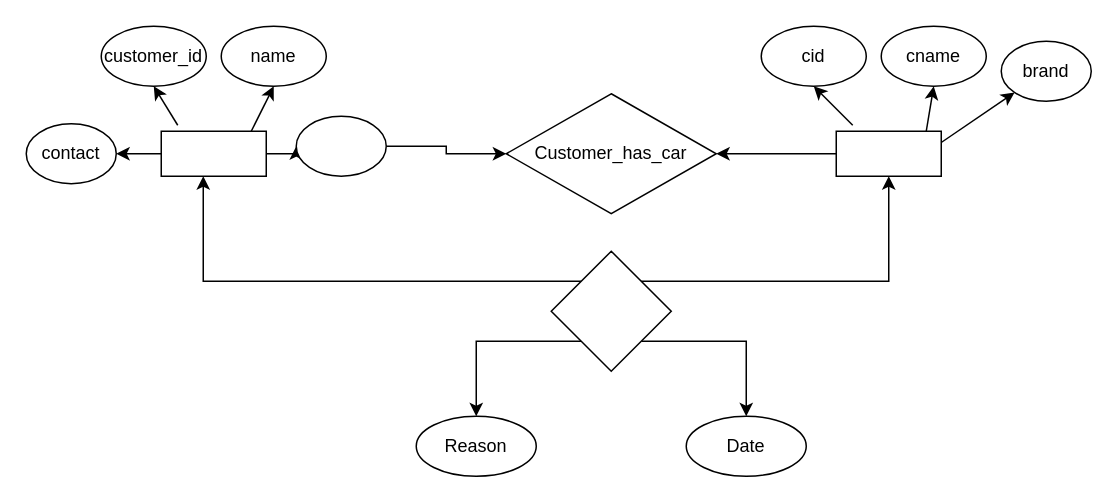
The diagram is 1118 pixels wide and 503 high, and some of its shapes have lost their labels. Here are the shapes that lost their labels. From the top down, the centre of each, then its label:
At pixel 213 153: "customer".
At pixel 340 145: "address".
At pixel 888 153: "Car".
At pixel 610 310: "Accident".
